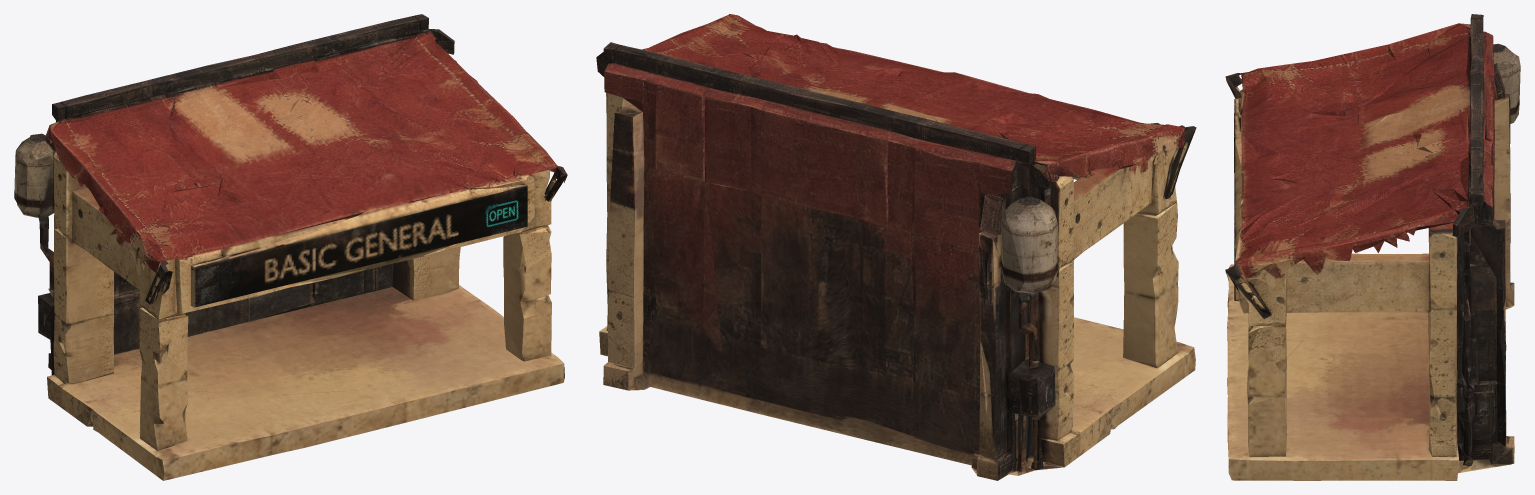
File: general.glb
3 renders of one model, left to right at view 1: azimuth 30°, elevation 25°; view 2: azimuth 150°, elevation 25°; view 3: azimuth 270°, elevation 25°, orthographic. The views are drawn at different scales.
Bounding box in the file's own units: 1.9 × 1.23 × 1.17.
Materials: 1 (1 with a texture image).
